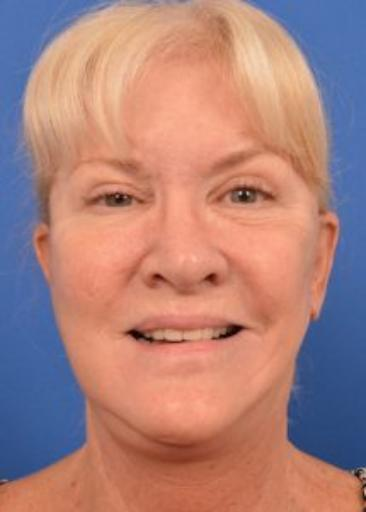left_eye: (209, 186, 275, 214)
left_lip_corner: (238, 320, 255, 339)
right_eye: (87, 189, 146, 215)
right_lip_corner: (120, 324, 138, 346)
